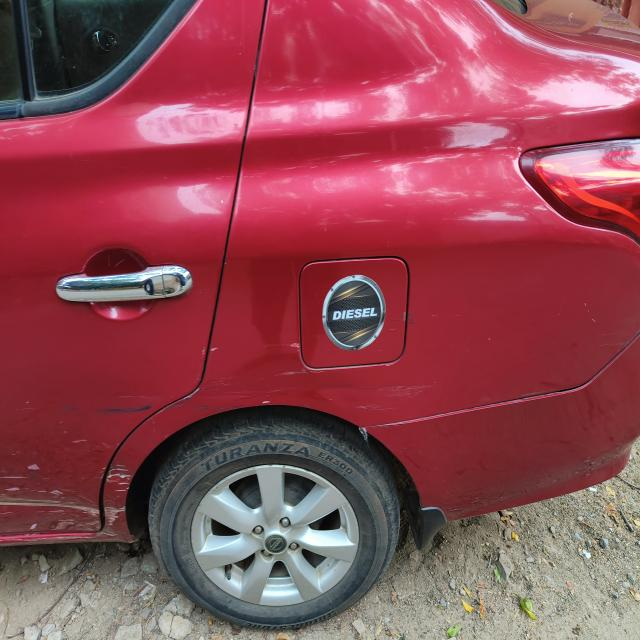scratch: (0, 493, 127, 527), (204, 377, 298, 405), (276, 334, 320, 378), (360, 385, 440, 397), (99, 464, 131, 492), (354, 403, 398, 411), (118, 395, 149, 399), (387, 327, 400, 332), (210, 347, 219, 352)
